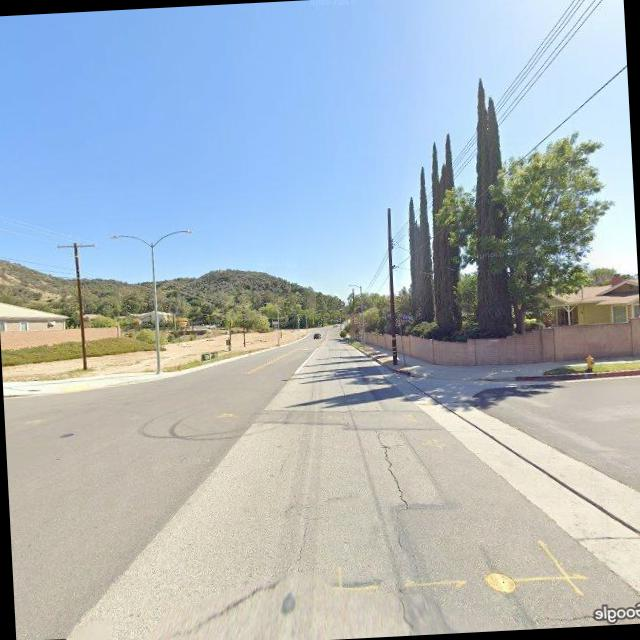pothole: (375, 427, 409, 512), (289, 508, 316, 572)
